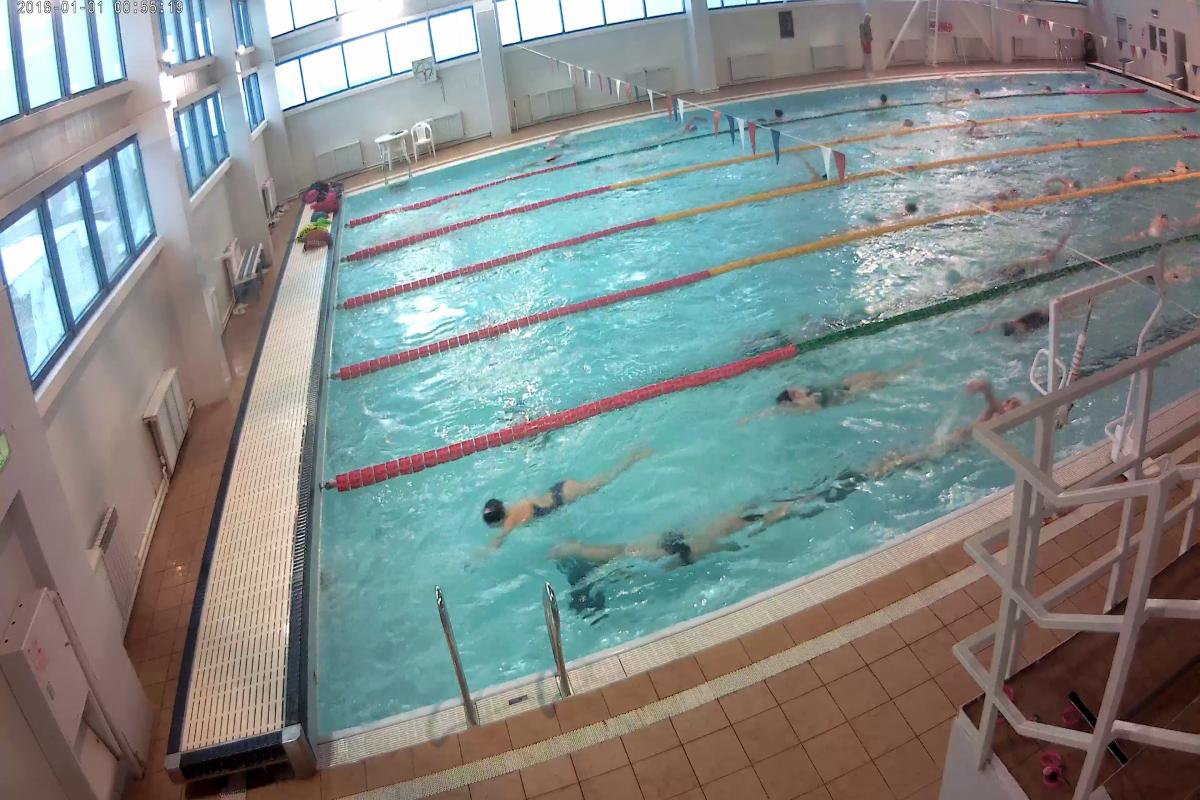swimmer: (466, 442, 645, 552), (614, 492, 790, 566), (755, 359, 930, 433), (949, 369, 1020, 425), (967, 295, 1048, 342), (1132, 201, 1176, 245), (1044, 168, 1089, 195), (1158, 147, 1194, 177), (801, 156, 825, 183), (886, 116, 919, 132)
